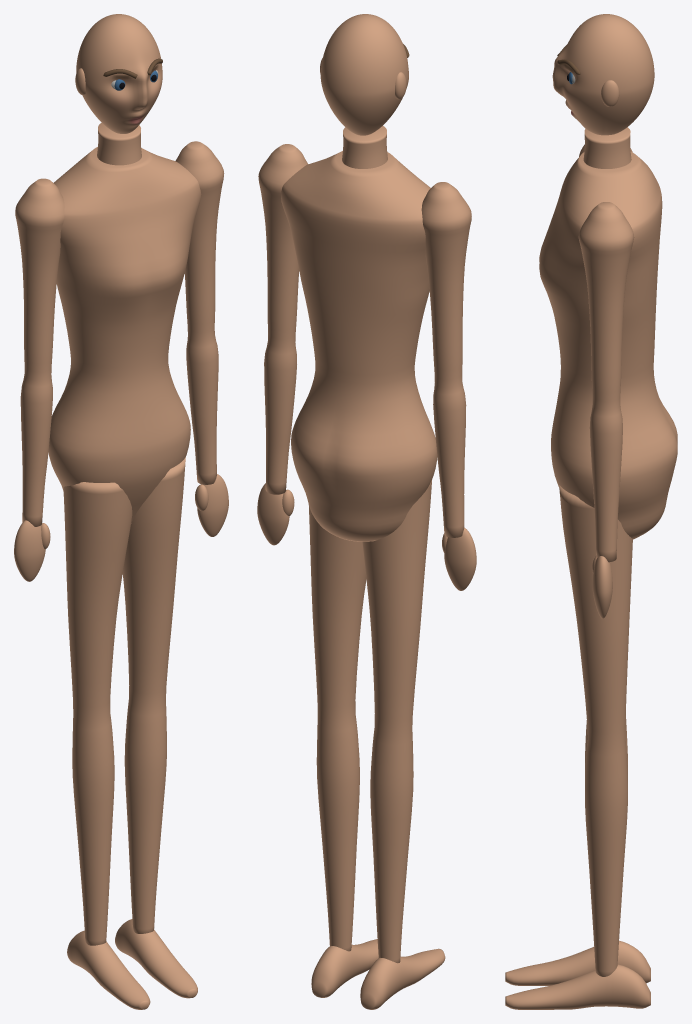
The model's file is dressed-base.glb.
3 renders of one model, left to right at view 1: azimuth 30°, elevation 25°; view 2: azimuth 150°, elevation 25°; view 3: azimuth 270°, elevation 25°, orthographic. The views are drawn at different scales.
Visible parts, largest first — view 1: body; view 2: body; view 3: body.
Part boxes in pixels (bbox=[...]): body: bbox=[14, 14, 228, 1009]; body: bbox=[257, 14, 476, 1009]; body: bbox=[505, 14, 677, 1009].
Size of the model in its own units: 0.41 by 1.75 by 0.2796.
